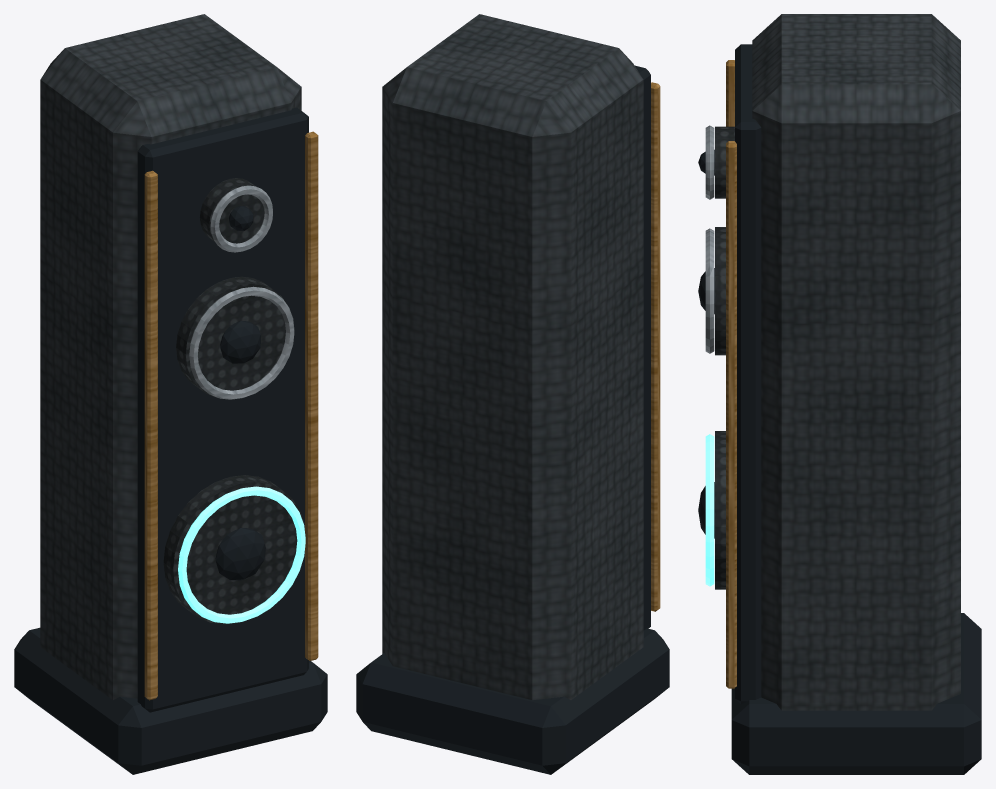
The model's file is speaker_tower.glb.
3 views of the same model, side by side, from view 1: azimuth 30°, elevation 25°; view 2: azimuth 150°, elevation 25°; view 3: azimuth 270°, elevation 25° (orthographic). The views are drawn at different scales.
Parts seen in each view (by area): view 1: fixed_black, fixed_hull, fixed_rubber, fixed_brass, fixed_trim, fixed_teal; view 2: fixed_hull, fixed_black, fixed_brass; view 3: fixed_hull, fixed_black, fixed_brass, fixed_rubber, fixed_trim, fixed_teal.
Boxes of the visible parts, x1,y1,x2,y2 form: fixed_black: (14, 107, 327, 774); fixed_hull: (40, 14, 301, 699); fixed_rubber: (163, 178, 305, 624); fixed_brass: (144, 131, 318, 700); fixed_trim: (189, 185, 294, 399); fixed_teal: (178, 486, 305, 623); fixed_hull: (382, 14, 643, 700); fixed_black: (356, 65, 669, 774); fixed_brass: (651, 82, 660, 611); fixed_hull: (752, 14, 960, 710); fixed_black: (698, 44, 981, 774); fixed_brass: (726, 60, 736, 688); fixed_rubber: (715, 126, 734, 589); fixed_trim: (705, 125, 714, 353); fixed_teal: (705, 434, 714, 586).
Size of the model in its own units: 0.3 by 0.9 by 0.34.
6 materials, 4 textured.
